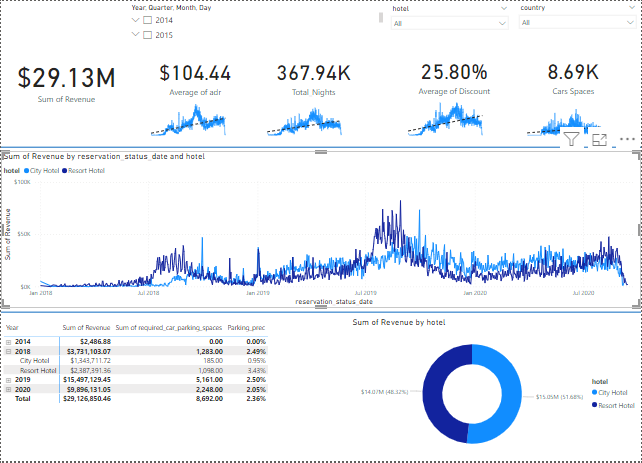

The dashboard page shown, as its layout file describes it:
{"tool":"powerbi","page":{"name":"Page 1","canvas":[1280,920],"ordinal":0},"visuals":[{"type":"shape","box":[0,283.5,1280,16.8],"z":0},{"type":"shape","box":[0,614.6,1280.6,16.6],"z":1000},{"type":"card","fields":{"Values":["Sum(Query1.Revenue)"]},"box":[14.7,86.5,233.7,141.7],"z":2000},{"type":"card","fields":{"Values":["Avg(Query1.adr)"]},"box":[286.9,88.9,204.7,122.5],"z":3000},{"type":"card","fields":{"Values":["Query1.Total_Nights"]},"box":[518.4,88.9,214.7,122.5],"z":4000},{"type":"card","fields":{"Values":["Avg(Query1.Discount)"]},"box":[800.2,85.6,213.1,124.1],"z":5000},{"type":"lineChart","fields":{"Y":["Sum(Query1.Revenue)"],"Category":["Query1.reservation_status_date"],"Series":["Query1.hotel"]},"box":[0,299.9,1280.6,314.6],"z":6000},{"type":"slicer","fields":{"Values":["Query1.country"]},"box":[1025,0,255,85.6],"z":7000},{"type":"slicer","fields":{"Values":["Query1.hotel"]},"box":[770,1.7,255,85.6],"z":8000},{"type":"lineChart","fields":{"Y":["Sum(Query1.adr)"],"Category":["Query1.reservation_status_date.Variation.Date Hierarchy.Year","Query1.reservation_status_date.Variation.Date Hierarchy.Quarter","Query1.reservation_status_date.Variation.Date Hierarchy.Month","Query1.reservation_status_date.Variation.Date Hierarchy.Day"]},"box":[286.9,184.5,177.8,90.6],"z":9000},{"type":"lineChart","fields":{"Y":["Query1.Total_Nights"],"Category":["Query1.reservation_status_date.Variation.Date Hierarchy.Year","Query1.reservation_status_date.Variation.Date Hierarchy.Quarter","Query1.reservation_status_date.Variation.Date Hierarchy.Month","Query1.reservation_status_date.Variation.Date Hierarchy.Day"]},"box":[518.4,184.5,177.8,90.6],"z":10000},{"type":"lineChart","fields":{"Category":["Query1.reservation_status_date.Variation.Date Hierarchy.Year","Query1.reservation_status_date.Variation.Date Hierarchy.Quarter","Query1.reservation_status_date.Variation.Date Hierarchy.Month","Query1.reservation_status_date.Variation.Date Hierarchy.Day"],"Y":["Sum(Query1.Discount)"]},"box":[800.2,184.5,177.8,90.6],"z":11000},{"type":"card","fields":{"Values":["Sum(Query1.required_car_parking_spaces)"]},"box":[1038.4,85.6,213.1,124.1],"z":12000},{"type":"lineChart","fields":{"Category":["Query1.reservation_status_date.Variation.Date Hierarchy.Year","Query1.reservation_status_date.Variation.Date Hierarchy.Quarter","Query1.reservation_status_date.Variation.Date Hierarchy.Month","Query1.reservation_status_date.Variation.Date Hierarchy.Day"],"Y":["Sum(Query1.required_car_parking_spaces)"]},"box":[1038.4,184.5,177.8,90.6],"z":13000},{"type":"donutChart","fields":{"Category":["Query1.hotel"],"Y":["Sum(Query1.Revenue)"]},"box":[697.4,631.1,583.3,288.9],"z":14000},{"type":"pivotTable","fields":{"Rows":["Query1.reservation_status_date.Variation.Date Hierarchy.Year","Query1.hotel"],"Values":["Sum(Query1.Revenue)","Sum(Query1.required_car_parking_spaces)","Query1.Parking_prec"]},"box":[0,638.5,693.7,281.5],"z":15000},{"type":"slicer","fields":{"Values":["Query1.reservation_status_date.Variation.Date Hierarchy.Year","Query1.reservation_status_date.Variation.Date Hierarchy.Quarter","Query1.reservation_status_date.Variation.Date Hierarchy.Month","Query1.reservation_status_date.Variation.Date Hierarchy.Day"]},"box":[248.4,0,520.7,84.6],"z":15001}]}

Visuals, with their boxes in screenshot pixels (x1, y1, x2, y2), scaled from the page's 1280x920 canvas onto the 642x463 screenshot:
shape: <bbox>0, 143, 641, 151</bbox>
shape: <bbox>0, 309, 641, 318</bbox>
card - Sum(Query1.Revenue): <bbox>7, 44, 125, 115</bbox>
card - Avg(Query1.adr): <bbox>144, 45, 247, 106</bbox>
card - Query1.Total_Nights: <bbox>260, 45, 368, 106</bbox>
card - Avg(Query1.Discount): <bbox>401, 43, 508, 106</bbox>
lineChart - Sum(Query1.Revenue) x Query1.reservation_status_date: <bbox>0, 151, 641, 309</bbox>
slicer - Query1.country: <bbox>514, 0, 641, 43</bbox>
slicer - Query1.hotel: <bbox>386, 1, 514, 44</bbox>
lineChart - Sum(Query1.adr) x Query1.reservation_status_date.Variation.Date Hierarchy.Year: <bbox>144, 93, 233, 138</bbox>
lineChart - Query1.Total_Nights x Query1.reservation_status_date.Variation.Date Hierarchy.Year: <bbox>260, 93, 349, 138</bbox>
lineChart - Query1.reservation_status_date.Variation.Date Hierarchy.Year x Query1.reservation_status_date.Variation.Date Hierarchy.Quarter: <bbox>401, 93, 491, 138</bbox>
card - Sum(Query1.required_car_parking_spaces): <bbox>521, 43, 628, 106</bbox>
lineChart - Query1.reservation_status_date.Variation.Date Hierarchy.Year x Query1.reservation_status_date.Variation.Date Hierarchy.Quarter: <bbox>521, 93, 610, 138</bbox>
donutChart - Query1.hotel x Sum(Query1.Revenue): <bbox>350, 318, 641, 462</bbox>
pivotTable - Query1.reservation_status_date.Variation.Date Hierarchy.Year x Query1.hotel: <bbox>0, 321, 348, 462</bbox>
slicer - Query1.reservation_status_date.Variation.Date Hierarchy.Year x Query1.reservation_status_date.Variation.Date Hierarchy.Quarter: <bbox>125, 0, 386, 43</bbox>
